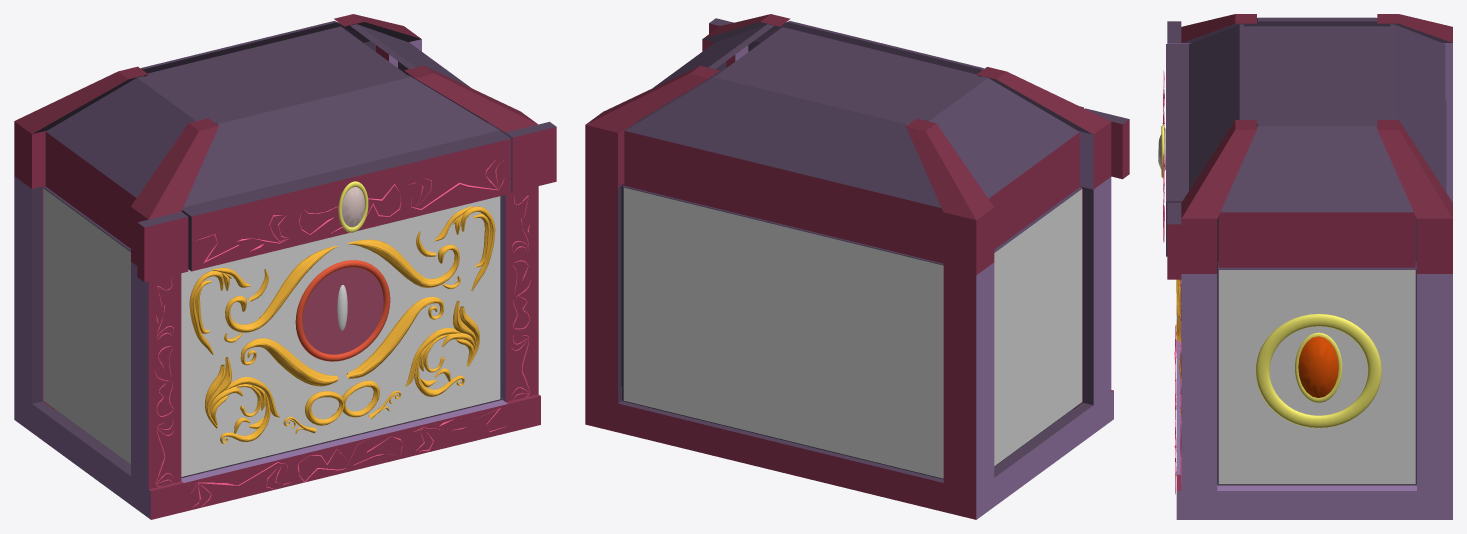
The model's file is pandorasbox.fbx.
3 renders of one model, left to right at view 1: azimuth 30°, elevation 25°; view 2: azimuth 150°, elevation 25°; view 3: azimuth 270°, elevation 25°, orthographic.
Parts seen in each view (by area): view 1: Pandora'sBox_Cycle; view 2: Pandora'sBox_Cycle; view 3: Pandora'sBox_Cycle.
Boxes of the visible parts, box(x1,y1,x2,y2) form: Pandora'sBox_Cycle: box(14, 14, 556, 519); Pandora'sBox_Cycle: box(585, 14, 1129, 519); Pandora'sBox_Cycle: box(1158, 14, 1452, 519).
Bounding box in the file's own units: 354 × 286 × 217.
